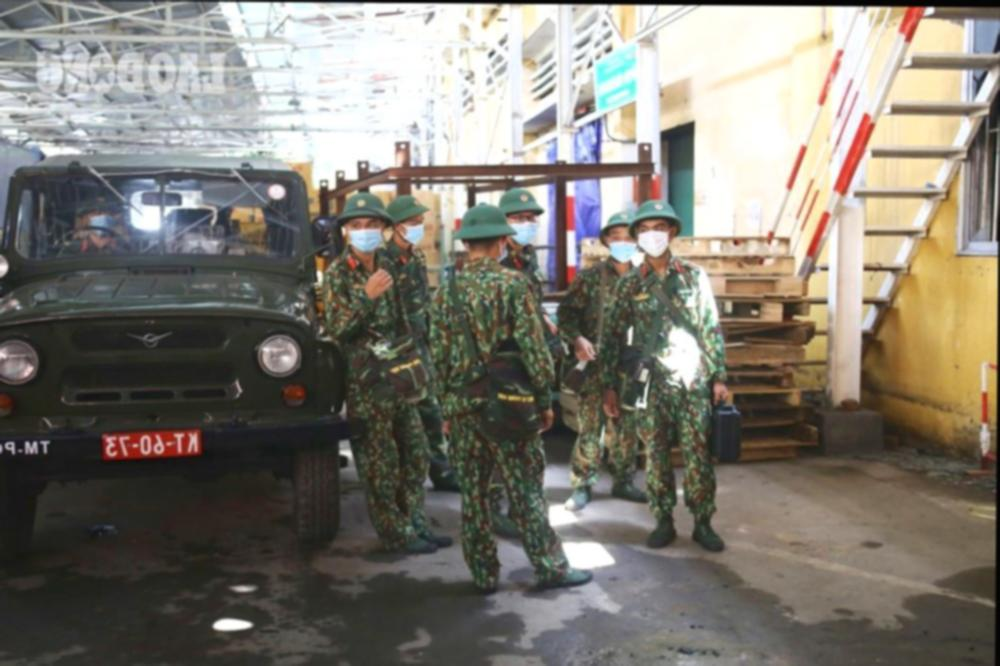License_Plate: (100, 425, 203, 472)
